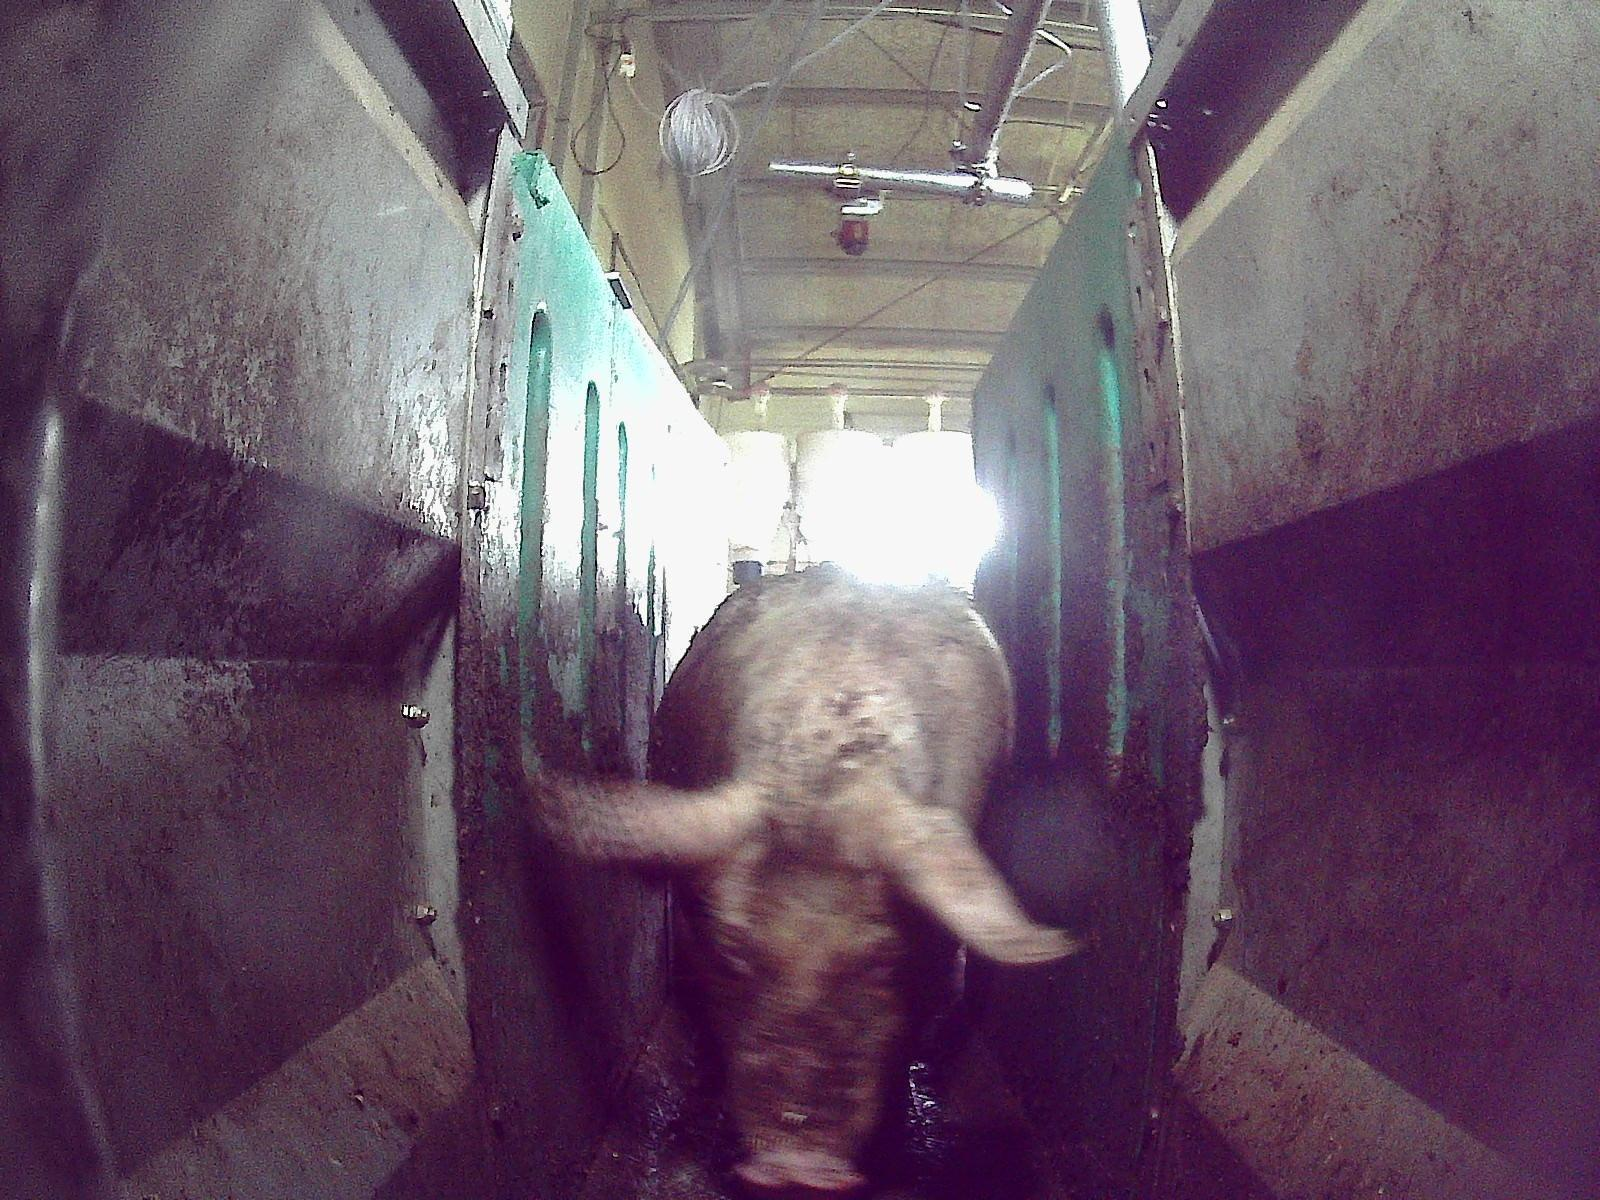Face: (684, 785, 946, 1199)
